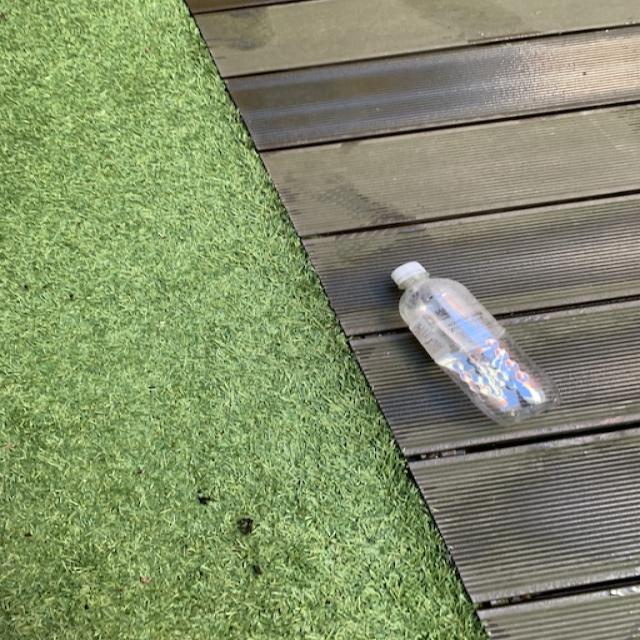Plastic: (392, 262, 560, 426)
